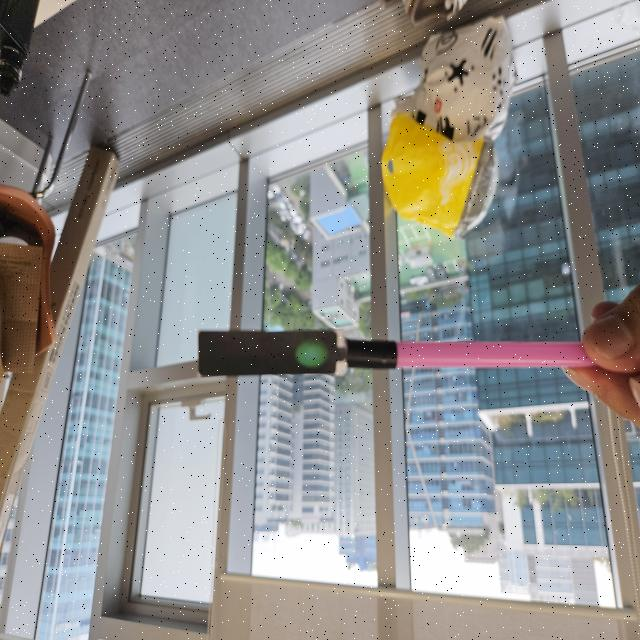traffic light: (195, 329, 349, 380)
